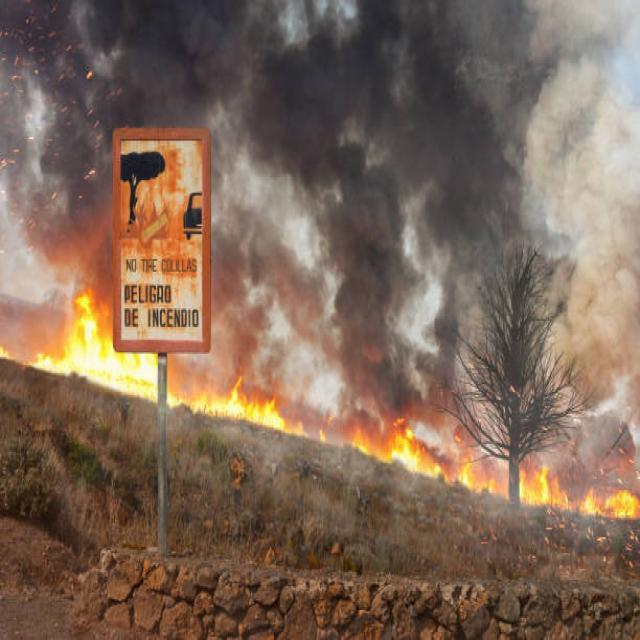Fire: (32, 295, 160, 402), (348, 409, 501, 494), (168, 365, 292, 432), (517, 453, 640, 518)
Smoke: (248, 0, 543, 428), (0, 0, 278, 269), (524, 0, 640, 424)
